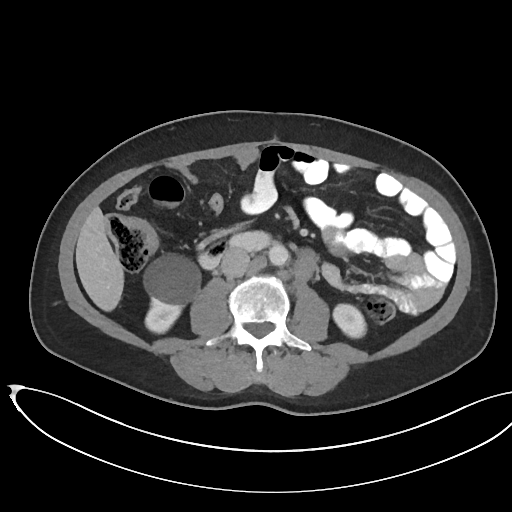Lesion: (144, 255, 202, 309)
